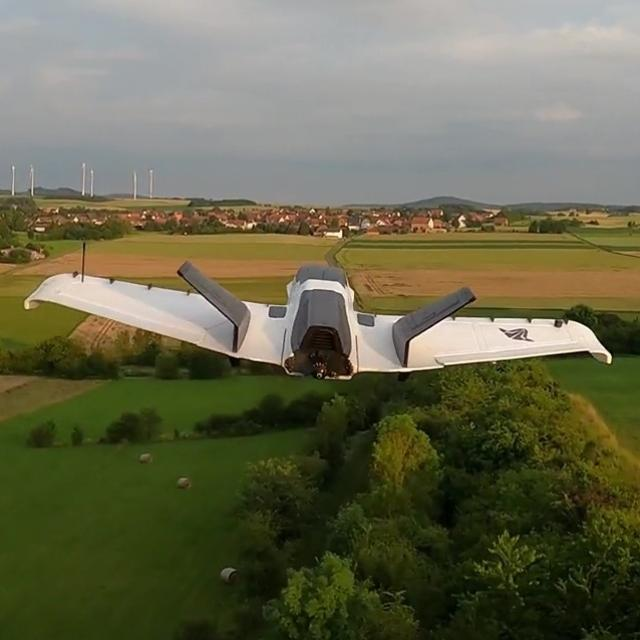iha: (30, 296, 610, 345)
